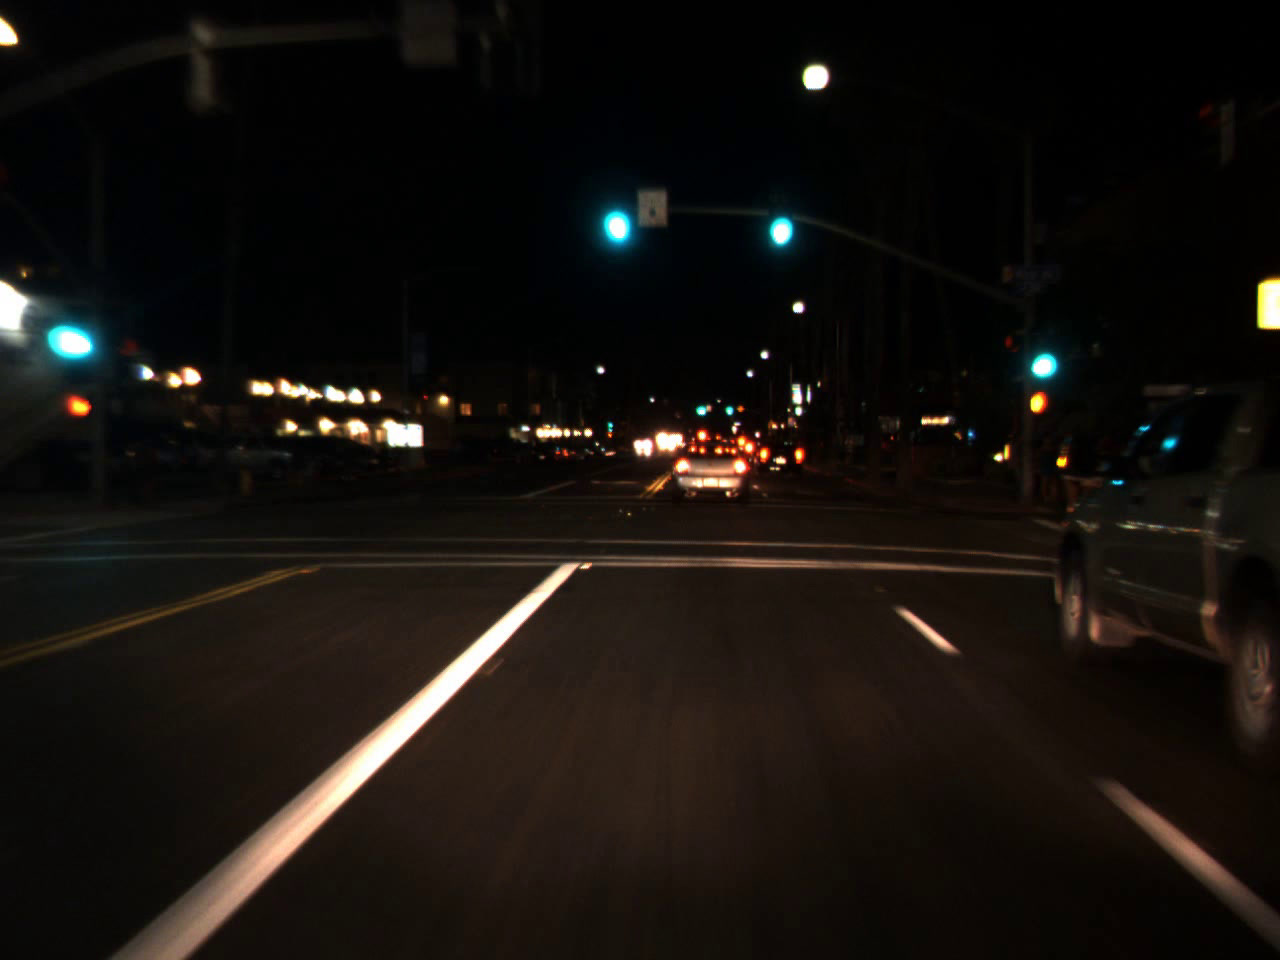go: (44, 291, 96, 369), (592, 167, 635, 254), (759, 177, 798, 258), (1020, 318, 1063, 390), (692, 396, 708, 417), (722, 396, 734, 417), (606, 417, 613, 429)
